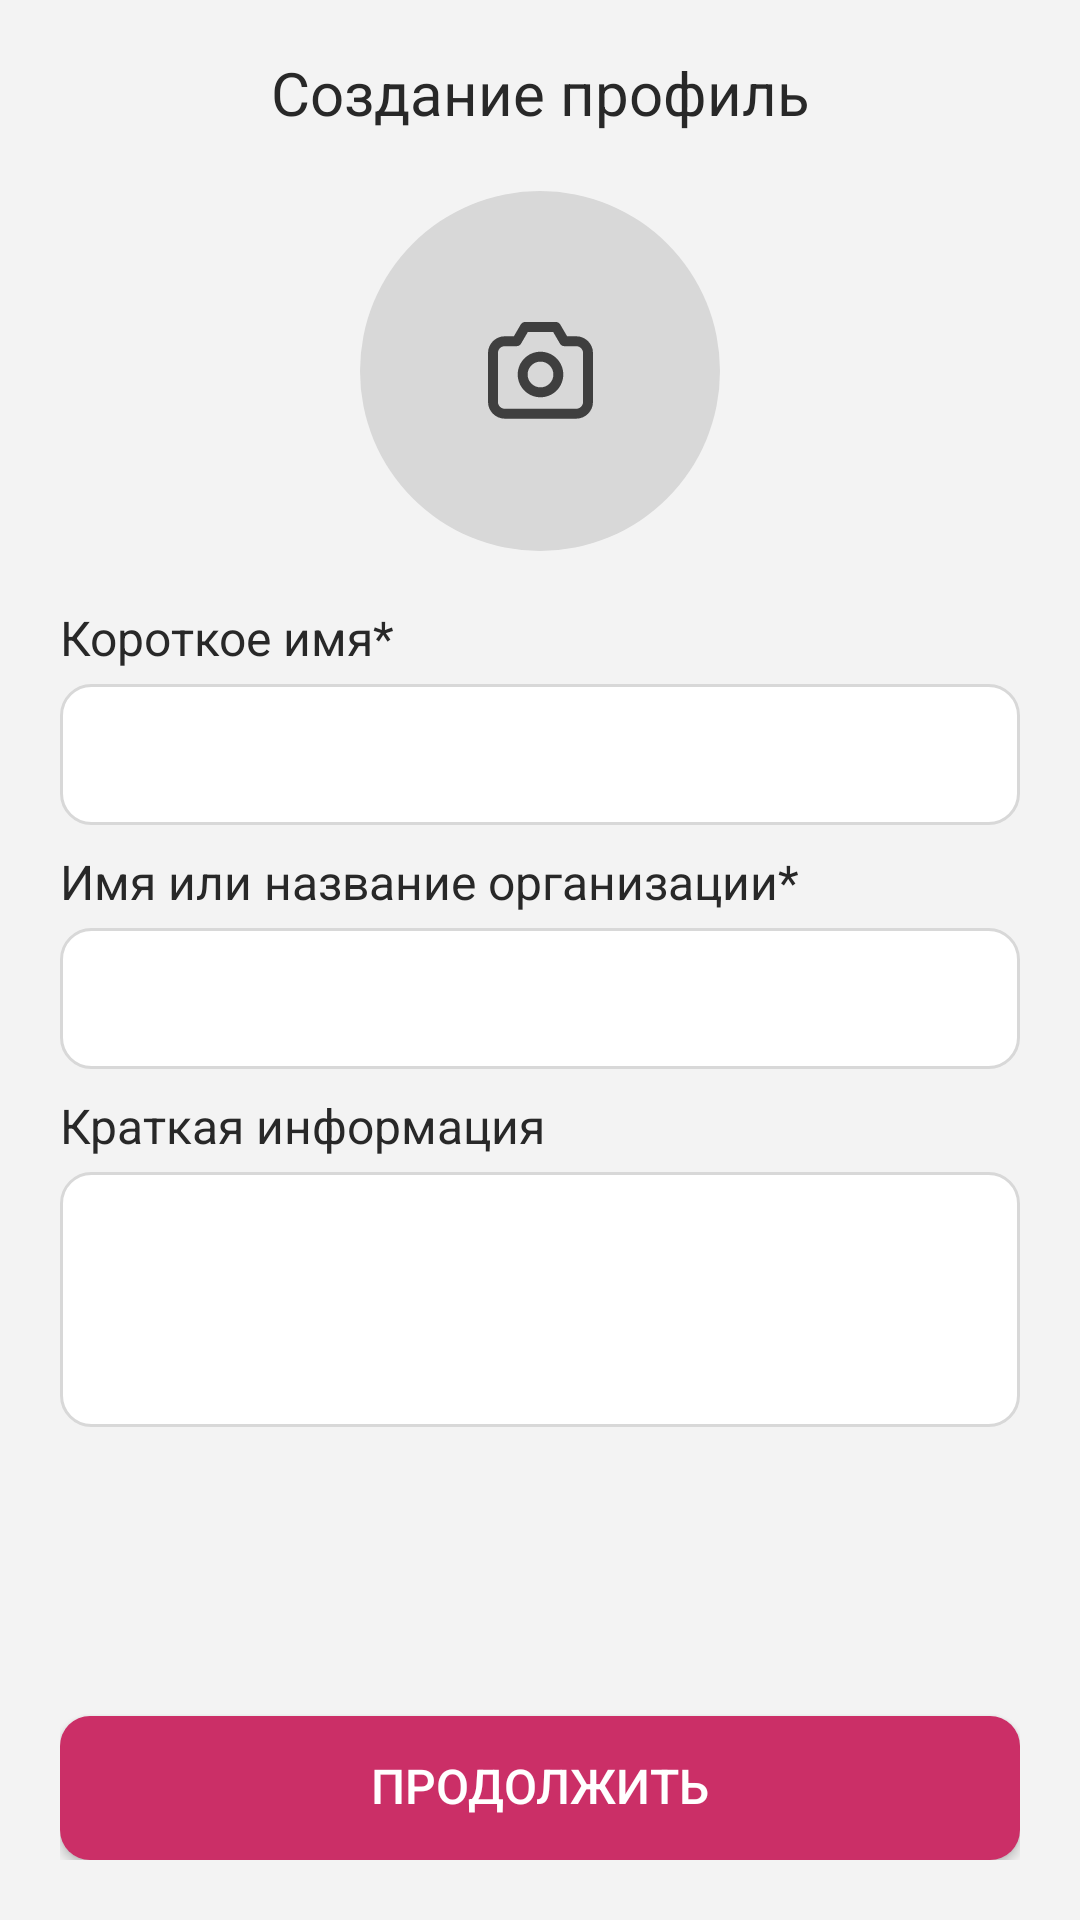

Icon click points for this 1080px×1920px phone screenshot, format [x,y]:
camera: [540,371]
